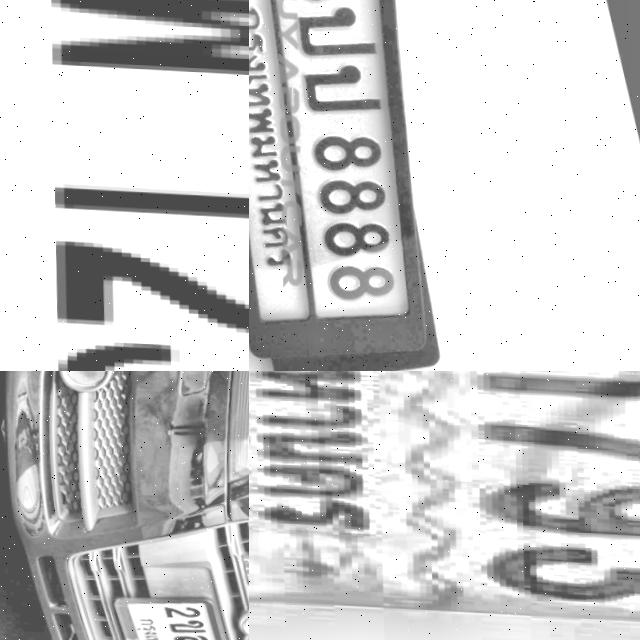license-plate: (249, 371, 640, 640), (0, 0, 249, 371), (249, 0, 436, 365), (101, 592, 239, 640)
